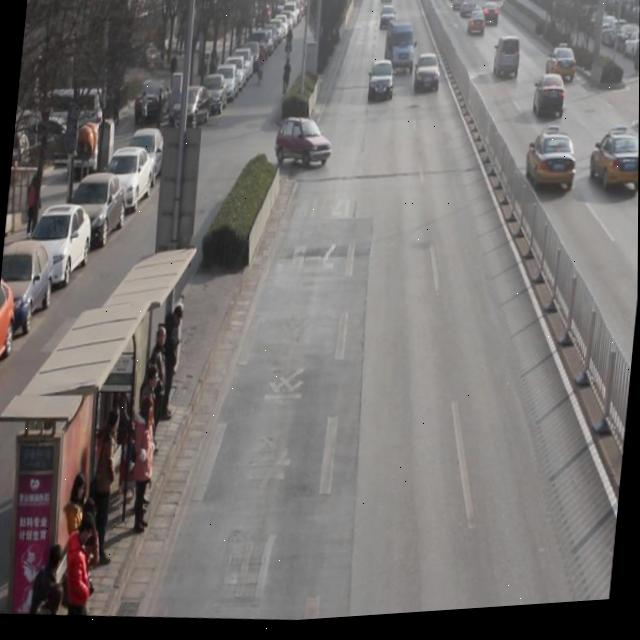car: (523, 127, 581, 202), (586, 128, 639, 206), (273, 116, 335, 177), (531, 77, 569, 130), (544, 46, 580, 93), (366, 62, 398, 110), (492, 39, 523, 88), (413, 54, 443, 102), (468, 12, 488, 45), (378, 7, 397, 37), (482, 5, 501, 34), (460, 0, 478, 25), (380, 0, 394, 9)
truck: (383, 21, 421, 83)
